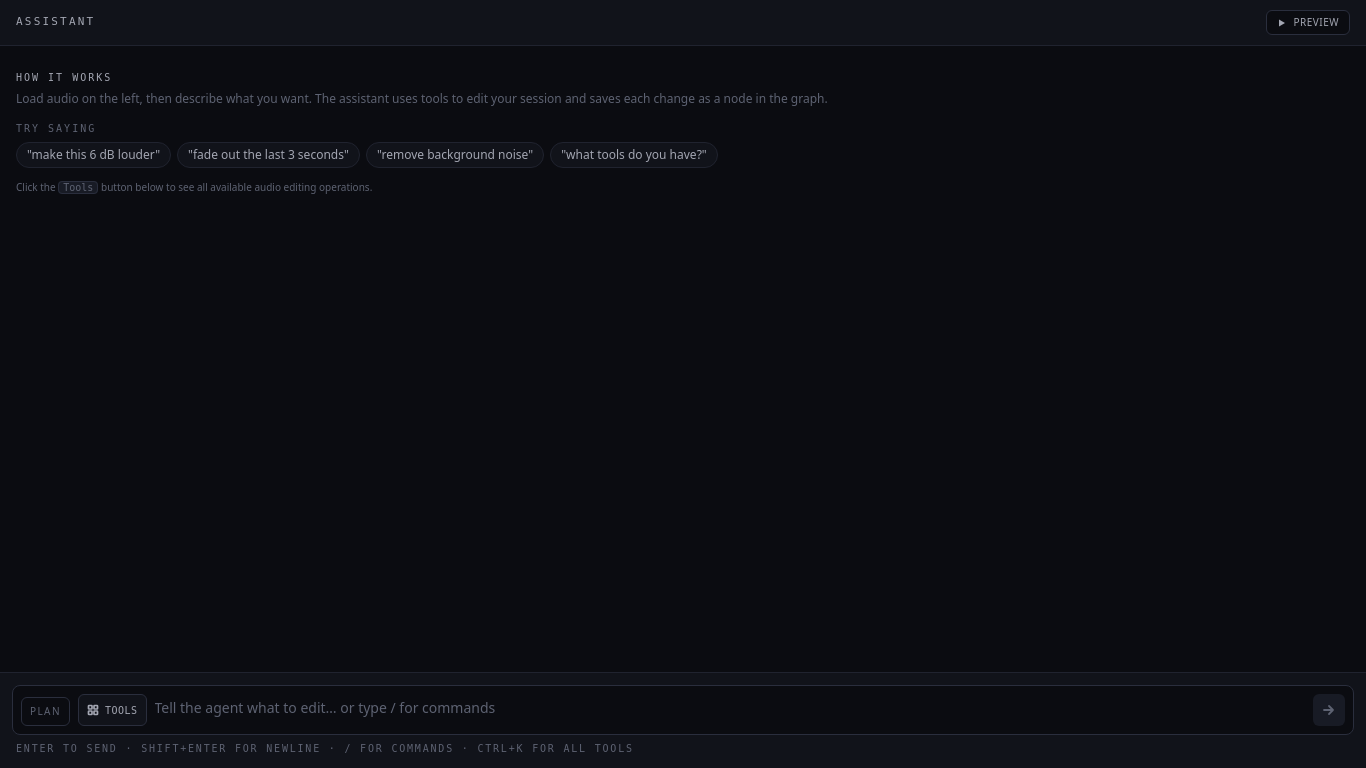
Test: Chat › stops showing the thinking indicator when the send fails
Type "make it louder" into the text box named "Message" at (730, 712), box [154,698,1305,726]
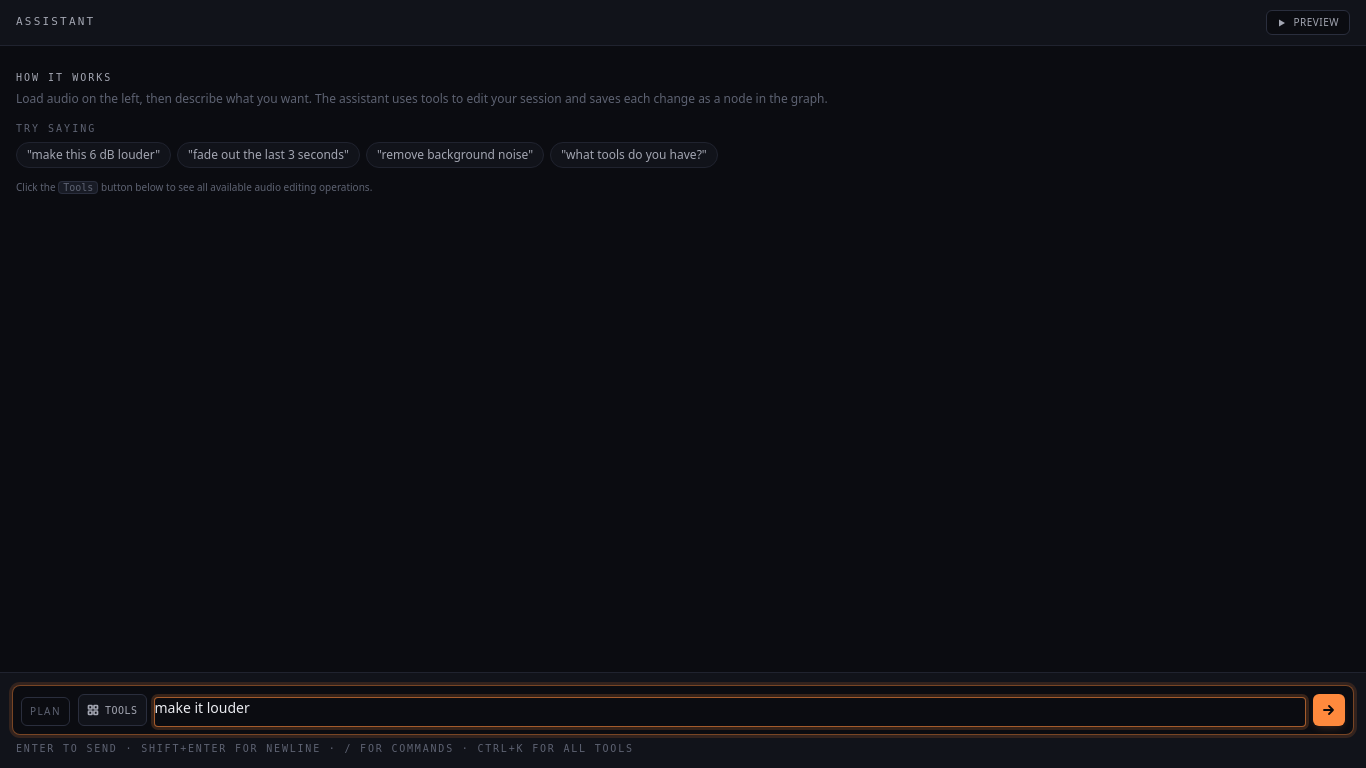
Click the button named "send" at (1329, 710), box [1313,694,1345,726]
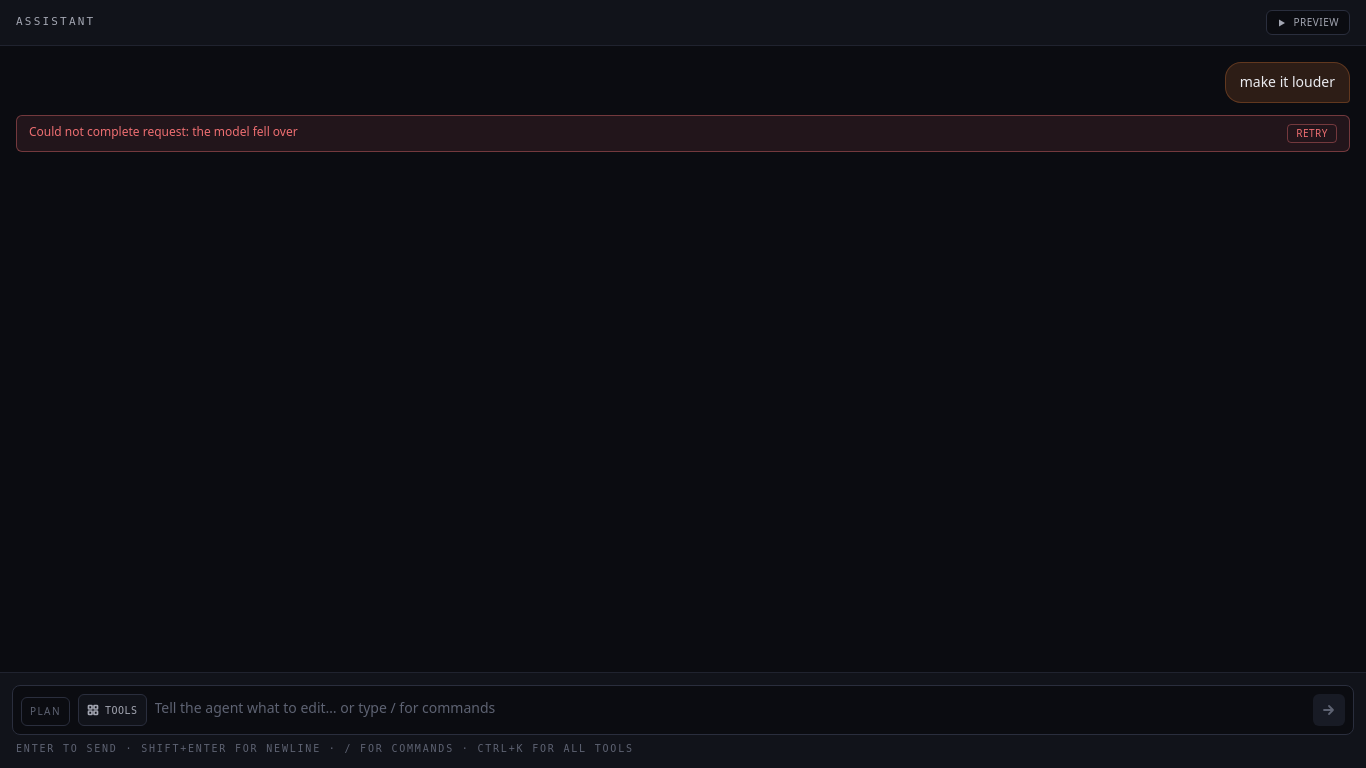
Now the message "Could not complete request: the model fell over Retry" is shown, box [16,115,1350,152]
